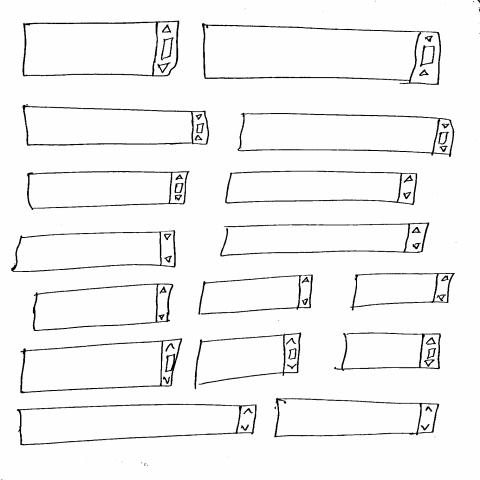Textarea: (200, 23, 444, 87), (18, 403, 260, 448), (236, 112, 457, 158), (20, 20, 183, 79), (19, 339, 185, 396), (21, 104, 212, 148), (11, 231, 180, 274), (272, 397, 441, 440), (32, 283, 177, 333), (221, 224, 432, 258), (223, 171, 420, 206), (27, 171, 192, 212), (193, 334, 304, 390), (197, 275, 315, 317), (340, 333, 444, 373), (351, 274, 457, 309)
